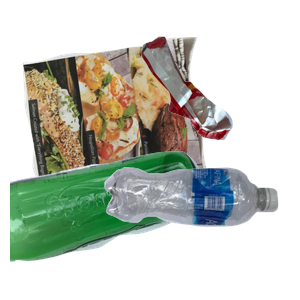glass: (10, 149, 203, 300)
paper: (20, 34, 221, 214)
plastic: (102, 165, 300, 300)
trash: (139, 34, 300, 167)
